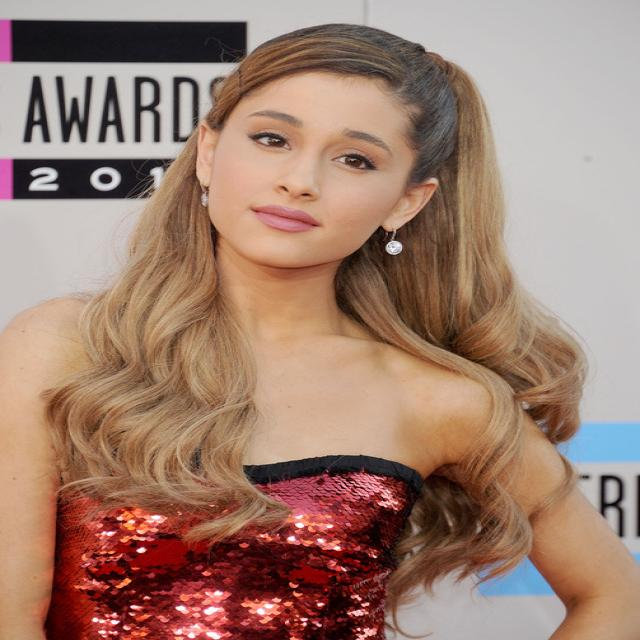Nonhelmet: (180, 19, 461, 291)
